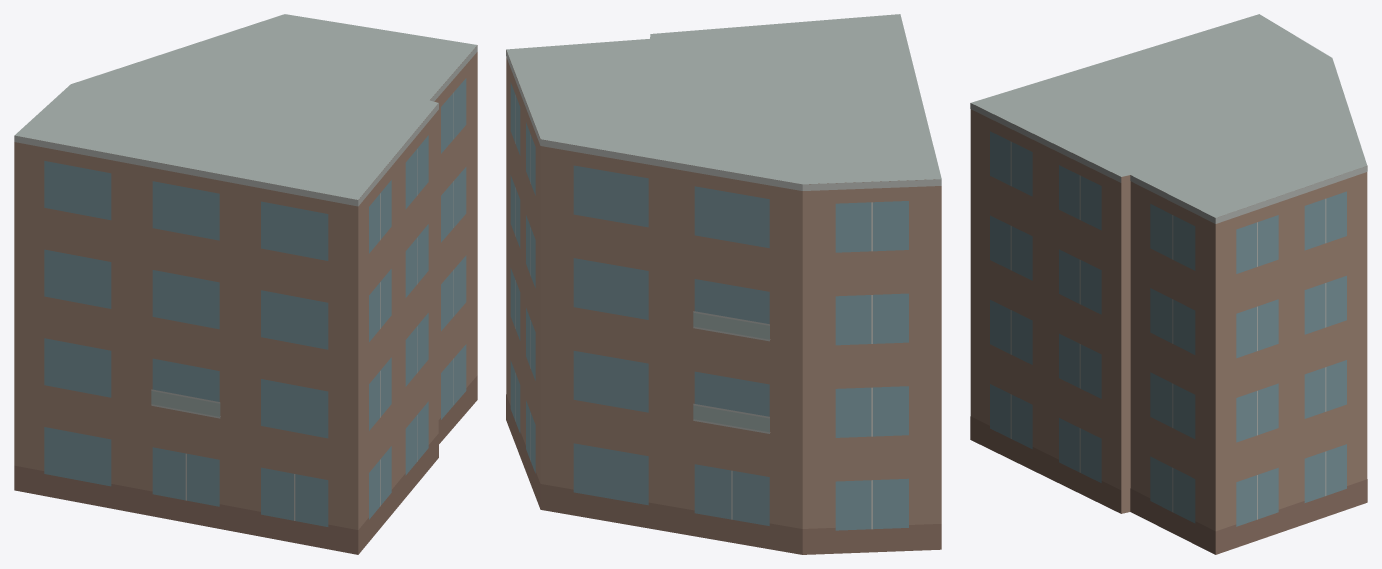
The model's file is survey-upis-32780479.glb.
The picture shows the model from 3 angles, left to right: view 1: azimuth 30°, elevation 25°; view 2: azimuth 150°, elevation 25°; view 3: azimuth 270°, elevation 25°; orthographic projection. The views are drawn at different scales.
Parts seen in each view (by area): view 1: survey-upis-32780479.tmp; view 2: survey-upis-32780479.tmp; view 3: survey-upis-32780479.tmp.
Boxes of the visible parts, left/top/right/bottom form: survey-upis-32780479.tmp: left=14, top=14, right=477, bottom=554; survey-upis-32780479.tmp: left=506, top=14, right=941, bottom=554; survey-upis-32780479.tmp: left=970, top=14, right=1367, bottom=554.
Size of the model in its own units: 17.34 by 13.35 by 14.26.
